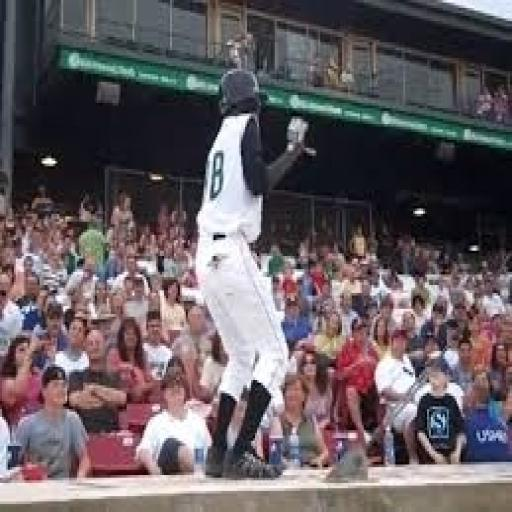dancing: (190, 61, 318, 483)
